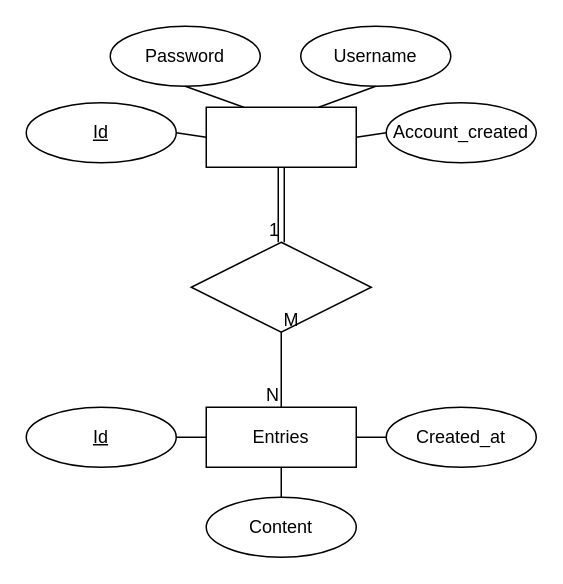
This 563x584 diagram has some shape labels left out. Here are the shapes that lost their labels. From the top down, the centre of each, then its label:
(280,136): User
(280,286): Creates
